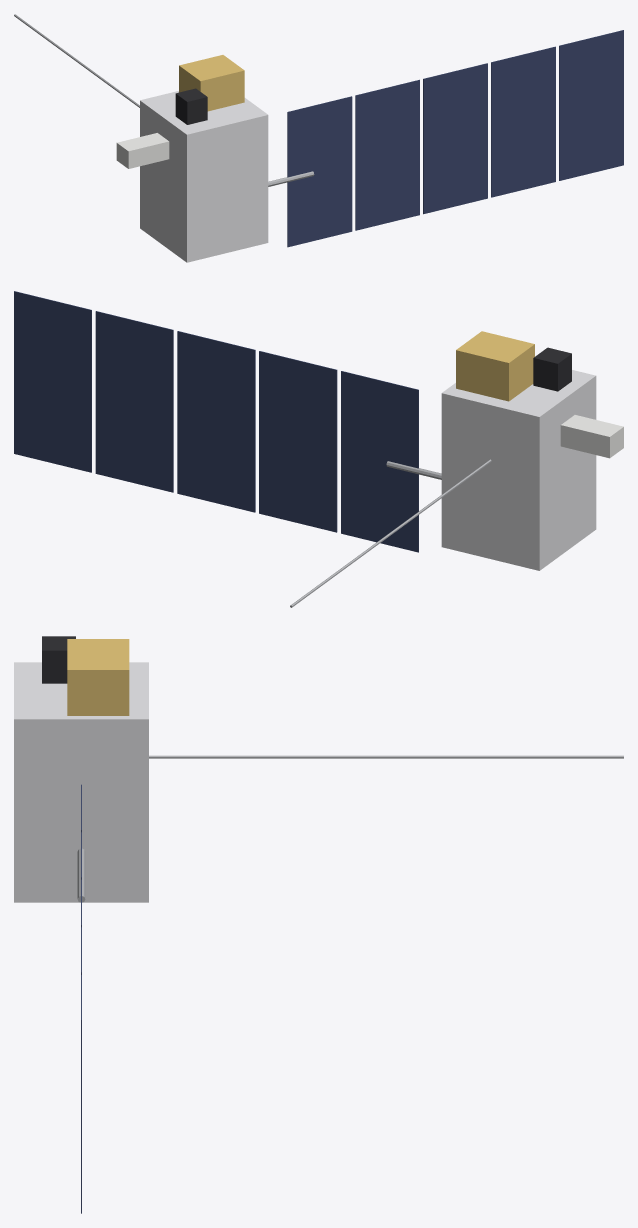
File: goes.glb
3 renders of one model, top to bottom at view 1: azimuth 30°, elevation 25°; view 2: azimuth 150°, elevation 25°; view 3: azimuth 270°, elevation 25°, orthographic. The views are drawn at different scales.
Visible parts, largest first — view 1: goes; view 2: goes; view 3: goes.
Part boxes in pixels (x1=…): goes: x1=14, y1=14, x2=623, y2=262; goes: x1=14, y1=291, x2=623, y2=607; goes: x1=14, y1=636, x2=623, y2=1213.
Size of the model in its own units: 2 by 0.7322 by 1.47.
